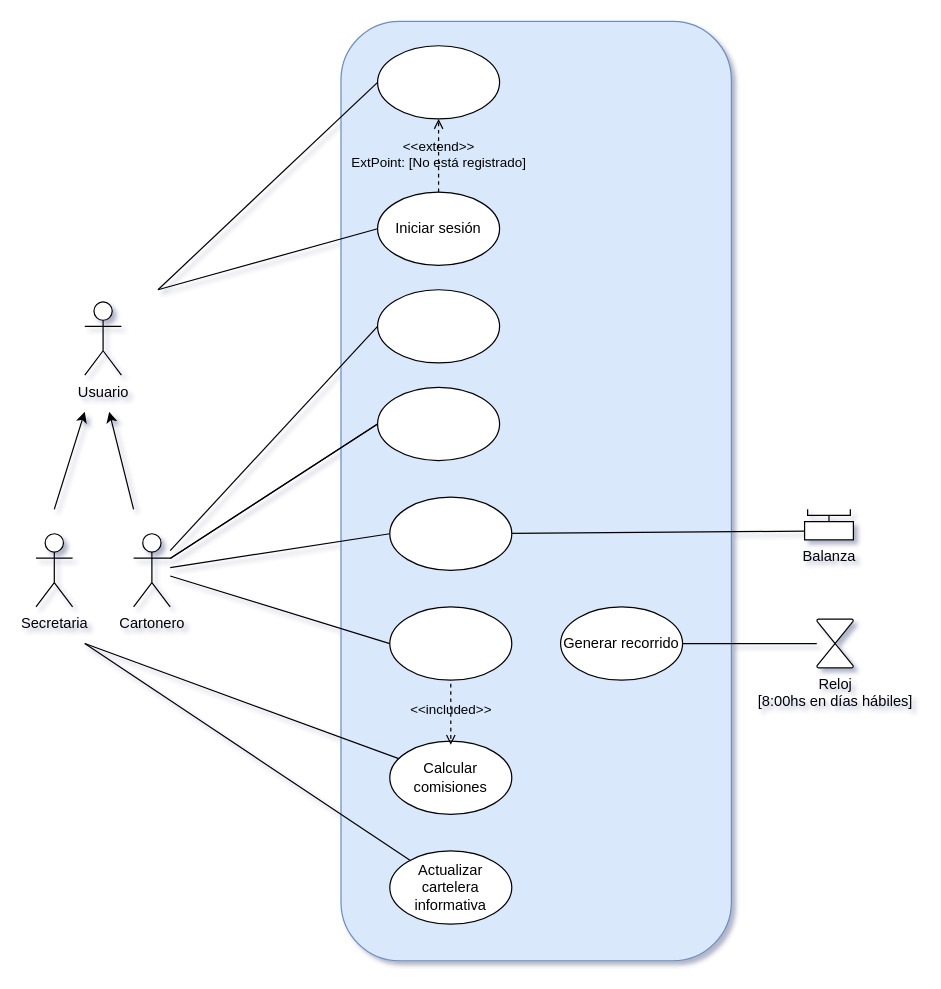
Image size: 941x989. Some labels were removed from this diagram. Here are the shapes that lost their labels. From the top down, the box of each, then its label:
(376, 45, 500, 119): Registrar
(376, 289, 500, 363): Retirar materiales
(376, 386, 500, 461): Finalizar recorrido
(389, 496, 512, 570): Pesar materiales
(389, 606, 512, 680): Ver saldos
